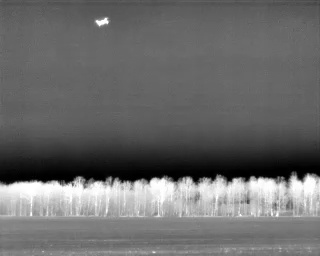DRONE: (92, 13, 114, 31)
